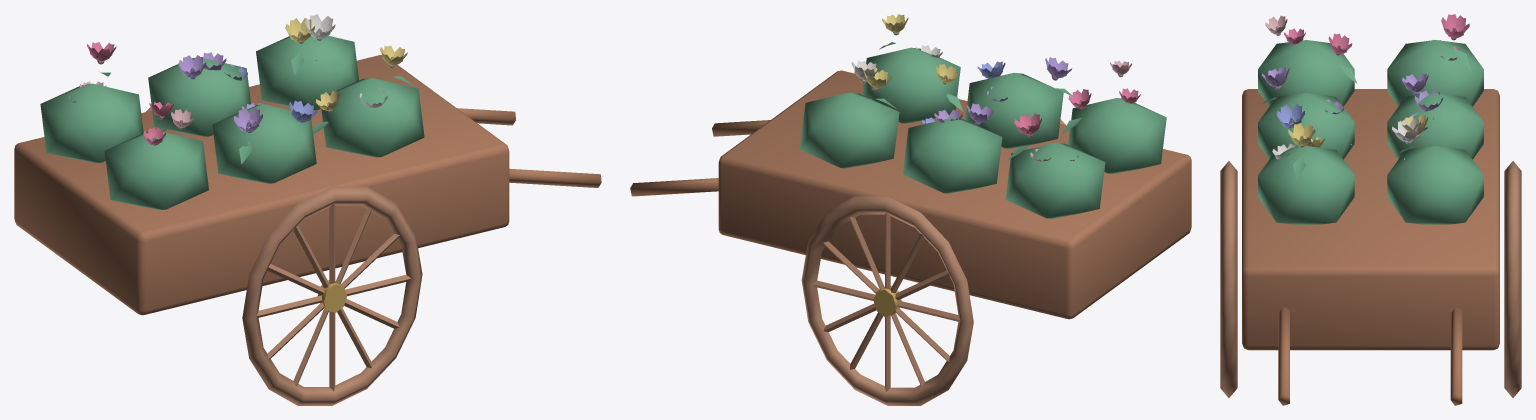
Rendered from cart_flower.glb.
3 renders of one model, left to right at view 1: azimuth 30°, elevation 25°; view 2: azimuth 150°, elevation 25°; view 3: azimuth 270°, elevation 25°, orthographic. The views are drawn at different scales.
Parts seen in each view (by area): view 1: cart_flower; view 2: cart_flower; view 3: cart_flower.
Boxes of the visible parts, left/top/right/bottom form: cart_flower: left=14, top=14, right=601, bottom=405; cart_flower: left=630, top=14, right=1191, bottom=405; cart_flower: left=1220, top=14, right=1521, bottom=405.
Size of what is drawn, in the model's own units: 2.6 by 1.6 by 1.4.
